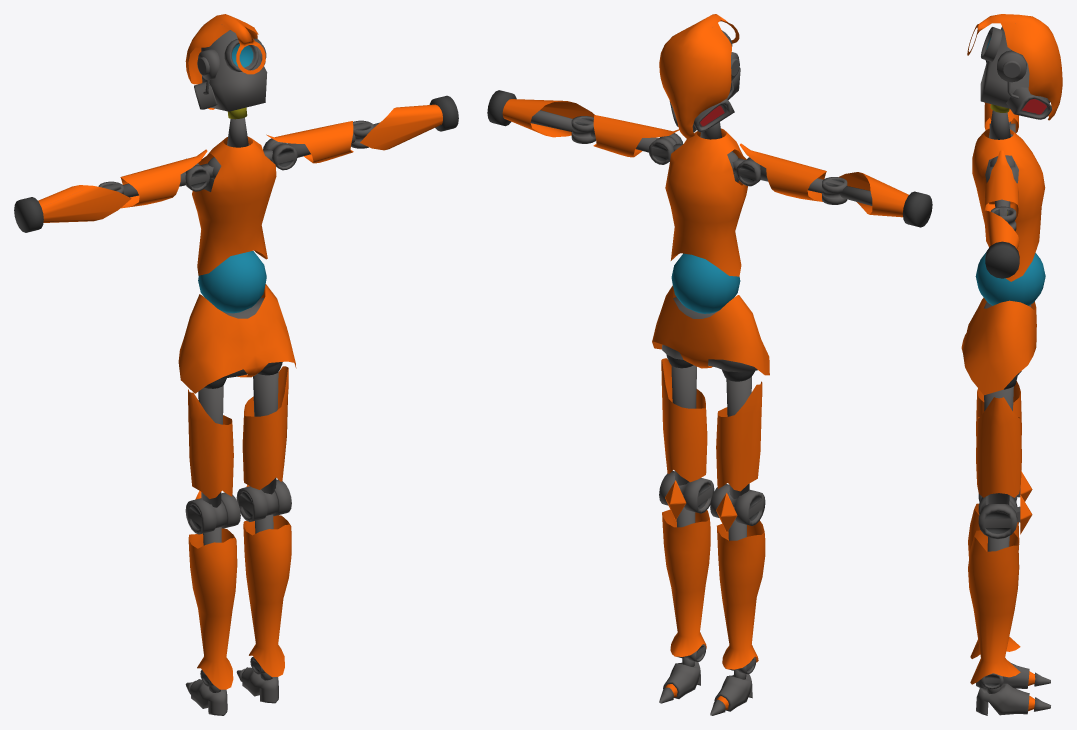
File: Kaishi.obj
The picture shows the model from 3 angles, left to right: view 1: azimuth 30°, elevation 25°; view 2: azimuth 150°, elevation 25°; view 3: azimuth 270°, elevation 25°; orthographic projection.
Visible parts, largest first — view 1: Squeleton_Sphere.001; view 2: Squeleton_Sphere.001; view 3: Squeleton_Sphere.001.
Part boxes in pixels (x1,y1,x2,y2): Squeleton_Sphere.001: (14,14,458,715); Squeleton_Sphere.001: (487,14,932,715); Squeleton_Sphere.001: (961,14,1062,715).
Bounding box in the file's own units: 1.33 × 2.02 × 0.2696.
